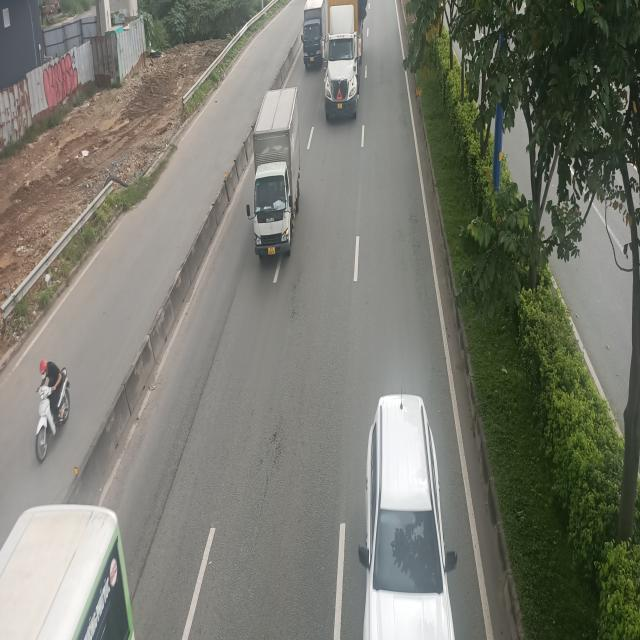car: (359, 398, 466, 640)
container: (321, 2, 366, 123)
truck: (248, 90, 302, 262), (302, 1, 326, 71)
